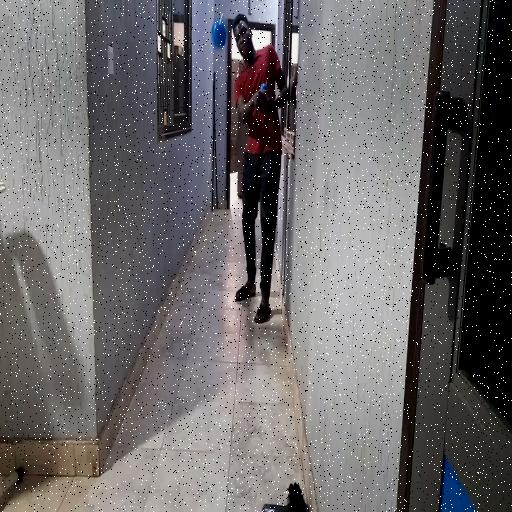plastic-ball: (210, 15, 228, 51)
